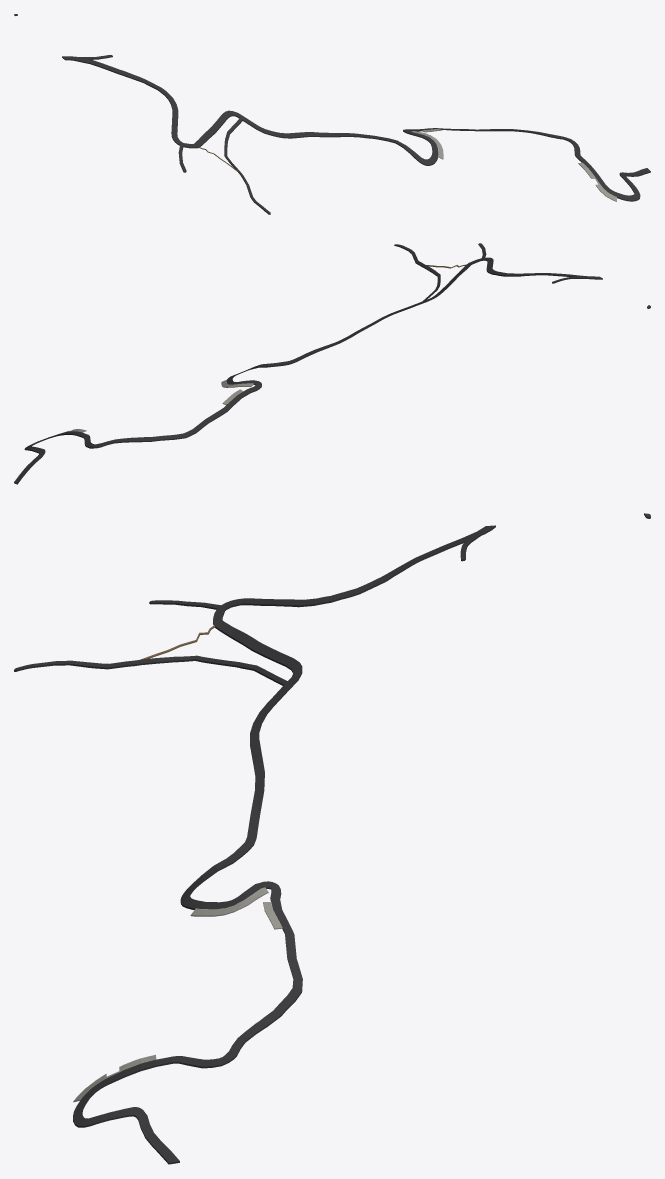
3 views of the same model, one above another, from view 1: azimuth 30°, elevation 25°; view 2: azimuth 210°, elevation 25°; view 3: azimuth 270°, elevation 25° (orthographic). The views are drawn at different scales.
Size of the model in its own units: 586 by 193 by 414.
